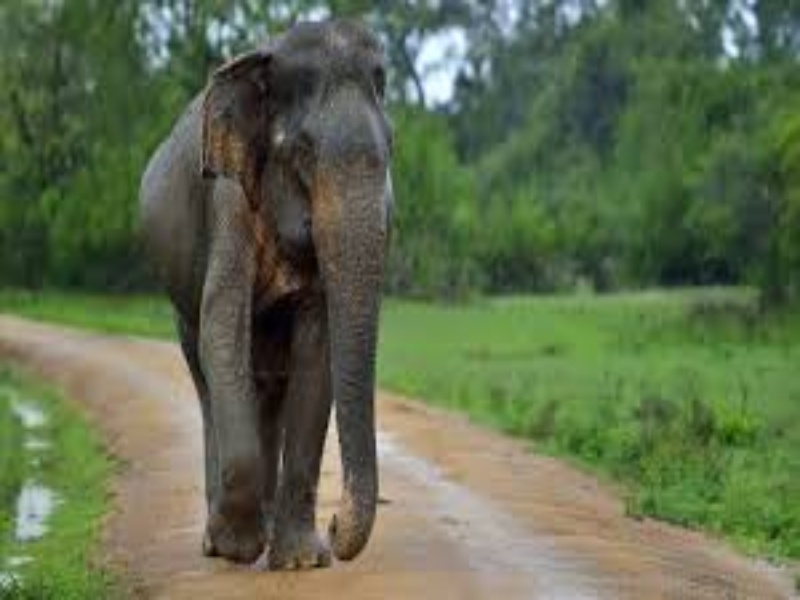elephant: (116, 15, 466, 577)
